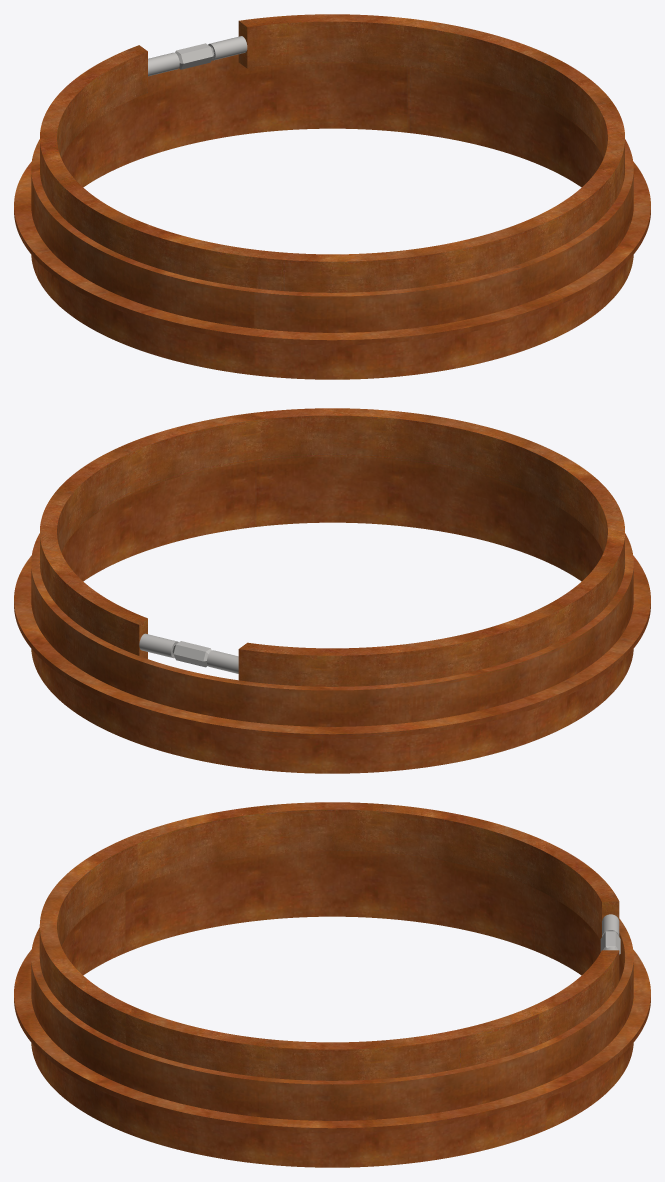
File: raw1.glb
3 views of the same model, one above another, from view 1: azimuth 30°, elevation 25°; view 2: azimuth 150°, elevation 25°; view 3: azimuth 270°, elevation 25° (orthographic).
Parts seen in each view (by area): view 1: Body2, Body1, Body14, Body12, Body11; view 2: Body2, Body1, Body14, Body12, Body11; view 3: Body2, Body1.
Boxes of the visible parts, x1=… form: Body2: x1=14, y1=54, x2=650, y2=379; Body1: x1=40, y1=14, x2=624, y2=292; Body14: x1=175, y1=43, x2=214, y2=69; Body12: x1=208, y1=36, x2=247, y2=60; Body11: x1=148, y1=52, x2=179, y2=76; Body2: x1=14, y1=457, x2=650, y2=773; Body1: x1=40, y1=408, x2=624, y2=686; Body14: x1=172, y1=641, x2=211, y2=667; Body12: x1=139, y1=633, x2=178, y2=658; Body11: x1=207, y1=650, x2=238, y2=673; Body2: x1=14, y1=851, x2=650, y2=1167; Body1: x1=39, y1=802, x2=619, y2=1080.
Size of the model in its own units: 0.7048 by 0.1397 by 0.7048.
Materials: 5 (2 with a texture image).
